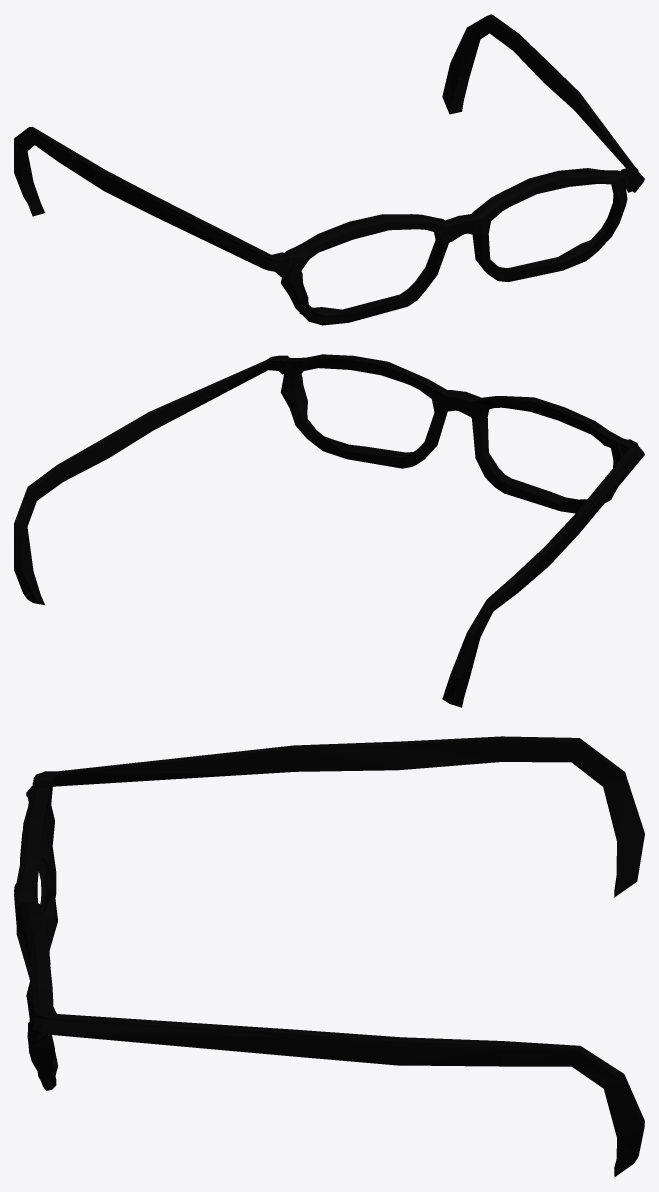
The model's file is mhw_frankyaye_glasses_library_male.glb.
3 renders of one model, top to bottom at view 1: azimuth 30°, elevation 25°; view 2: azimuth 150°, elevation 25°; view 3: azimuth 270°, elevation 25°, orthographic. The views are drawn at different scales.
Parts seen in each view (by area): view 1: mhw_frankyaye_glasses_library_male; view 2: mhw_frankyaye_glasses_library_male; view 3: mhw_frankyaye_glasses_library_male.
Boxes of the visible parts, box(x1,y1,x2,y2) form: mhw_frankyaye_glasses_library_male: box(14, 14, 644, 325); mhw_frankyaye_glasses_library_male: box(14, 354, 644, 707); mhw_frankyaye_glasses_library_male: box(14, 736, 644, 1177).
Bounding box in the file's own units: 0.1598 × 0.0394 × 0.1368.
1 material, 1 textured.
